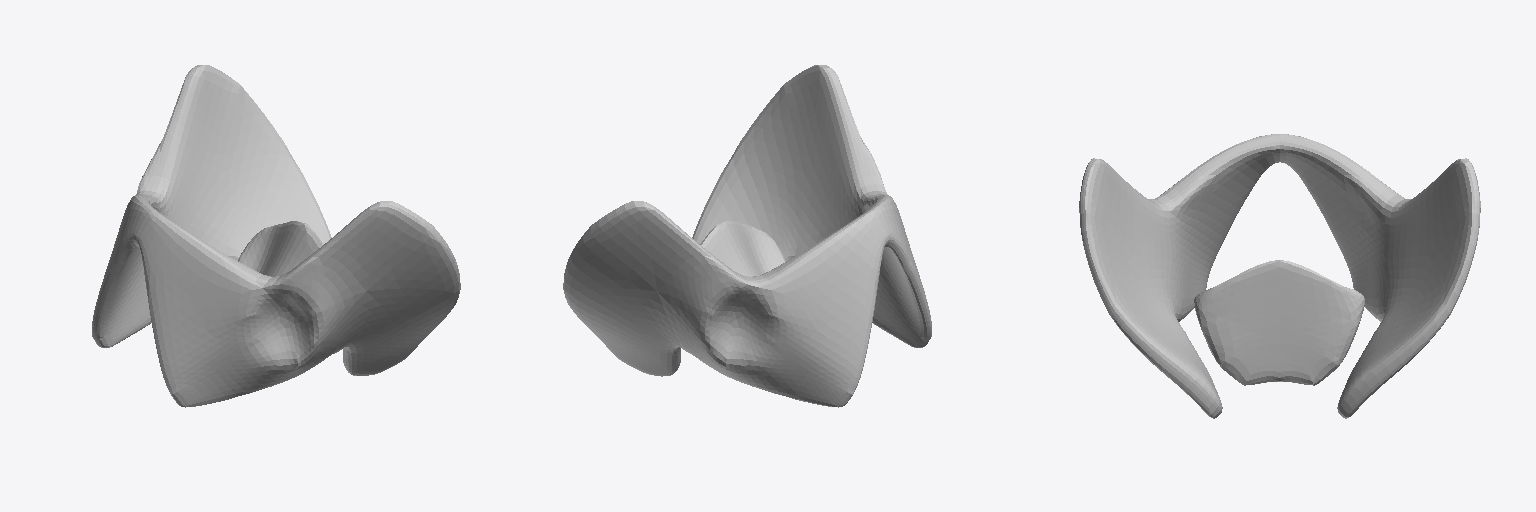
File: Hips.obj
3 views of the same model, side by side, from view 1: azimuth 30°, elevation 25°; view 2: azimuth 150°, elevation 25°; view 3: azimuth 270°, elevation 25° (orthographic).
Parts seen in each view (by area): view 1: hips.001; view 2: hips.001; view 3: hips.001.
Part boxes in pixels (x1,y1,x2,y2): hips.001: (92, 65, 460, 407); hips.001: (563, 65, 931, 407); hips.001: (1079, 134, 1480, 418).
Size of the model in its own units: 0.1968 by 0.1653 by 0.2656.